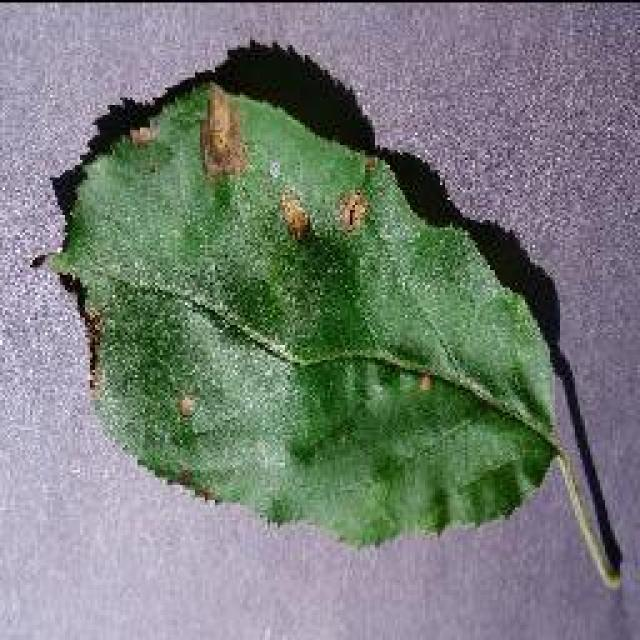apple scab disease: (30, 35, 625, 590)
